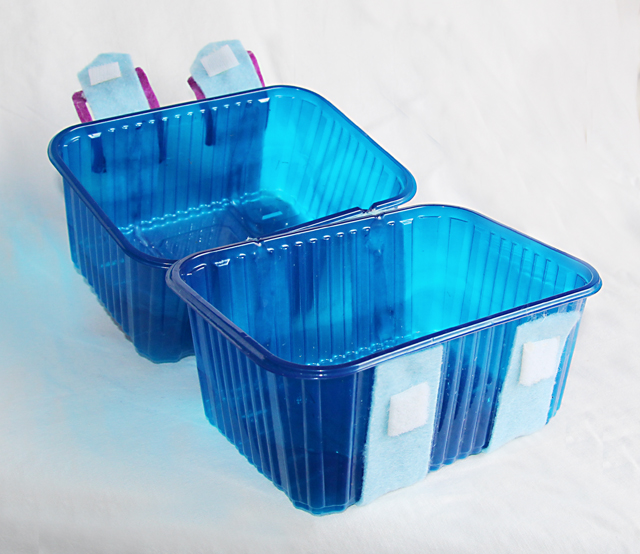PlasticBox: (45, 34, 606, 520)
